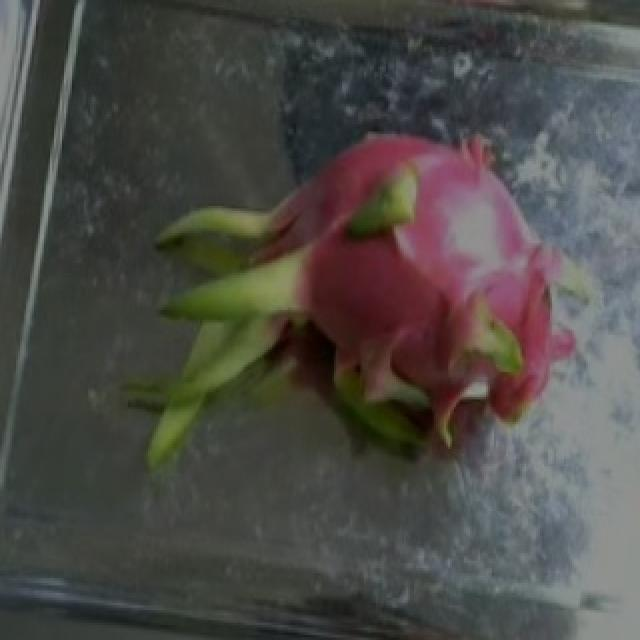fruit: (218, 99, 612, 531)
